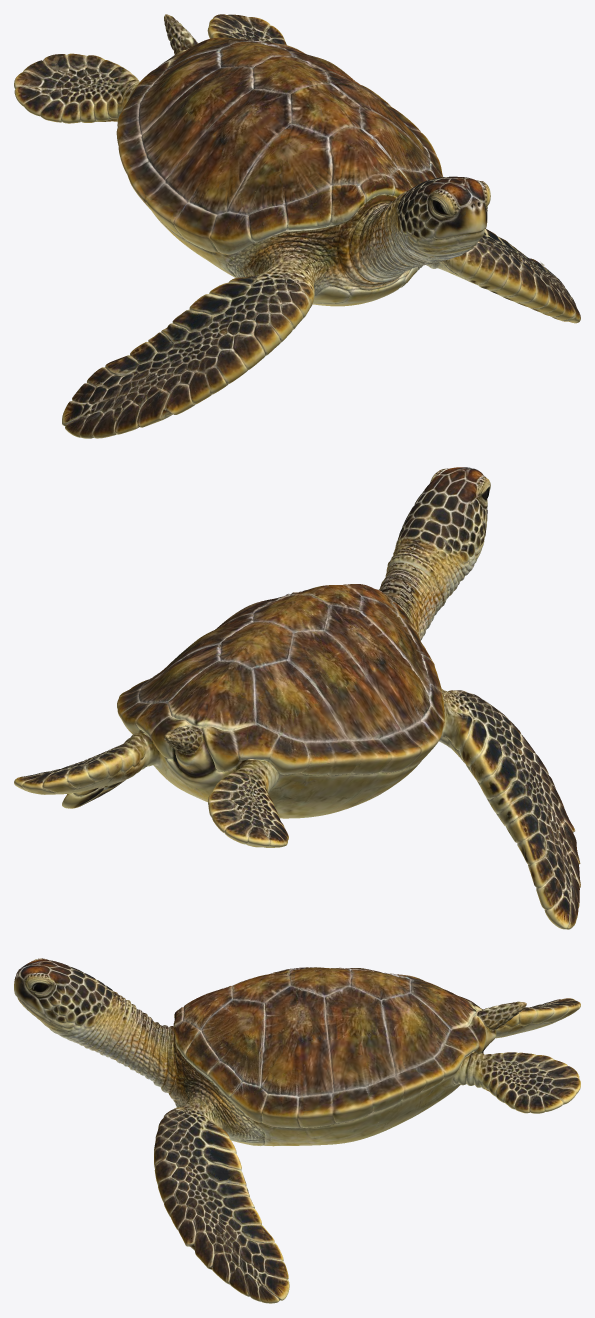
File: turtle.glb
3 renders of one model, top to bottom at view 1: azimuth 30°, elevation 25°; view 2: azimuth 150°, elevation 25°; view 3: azimuth 270°, elevation 25°, orthographic. The views are drawn at different scales.
Visible parts, largest first — view 1: sea-turtle; view 2: sea-turtle; view 3: sea-turtle.
Part boxes in pixels (x1,y1,x2,y2): sea-turtle: (14,14,580,438); sea-turtle: (14,467,580,929); sea-turtle: (14,958,580,1303).
Size of the model in its own units: 1.01 by 0.5622 by 1.2.
Materials: 1 (1 with a texture image).
